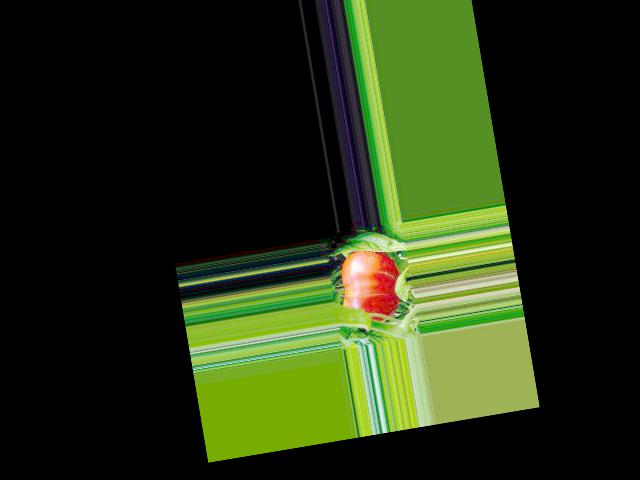tomato: (334, 244, 406, 328)
